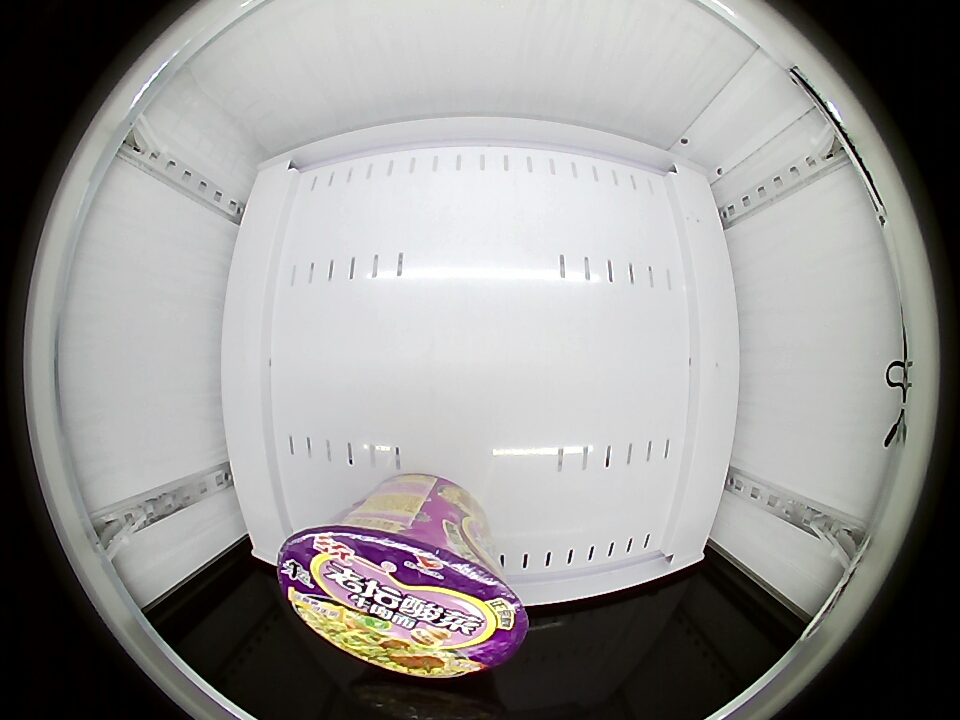laotansuancai: (277, 516, 526, 679)
